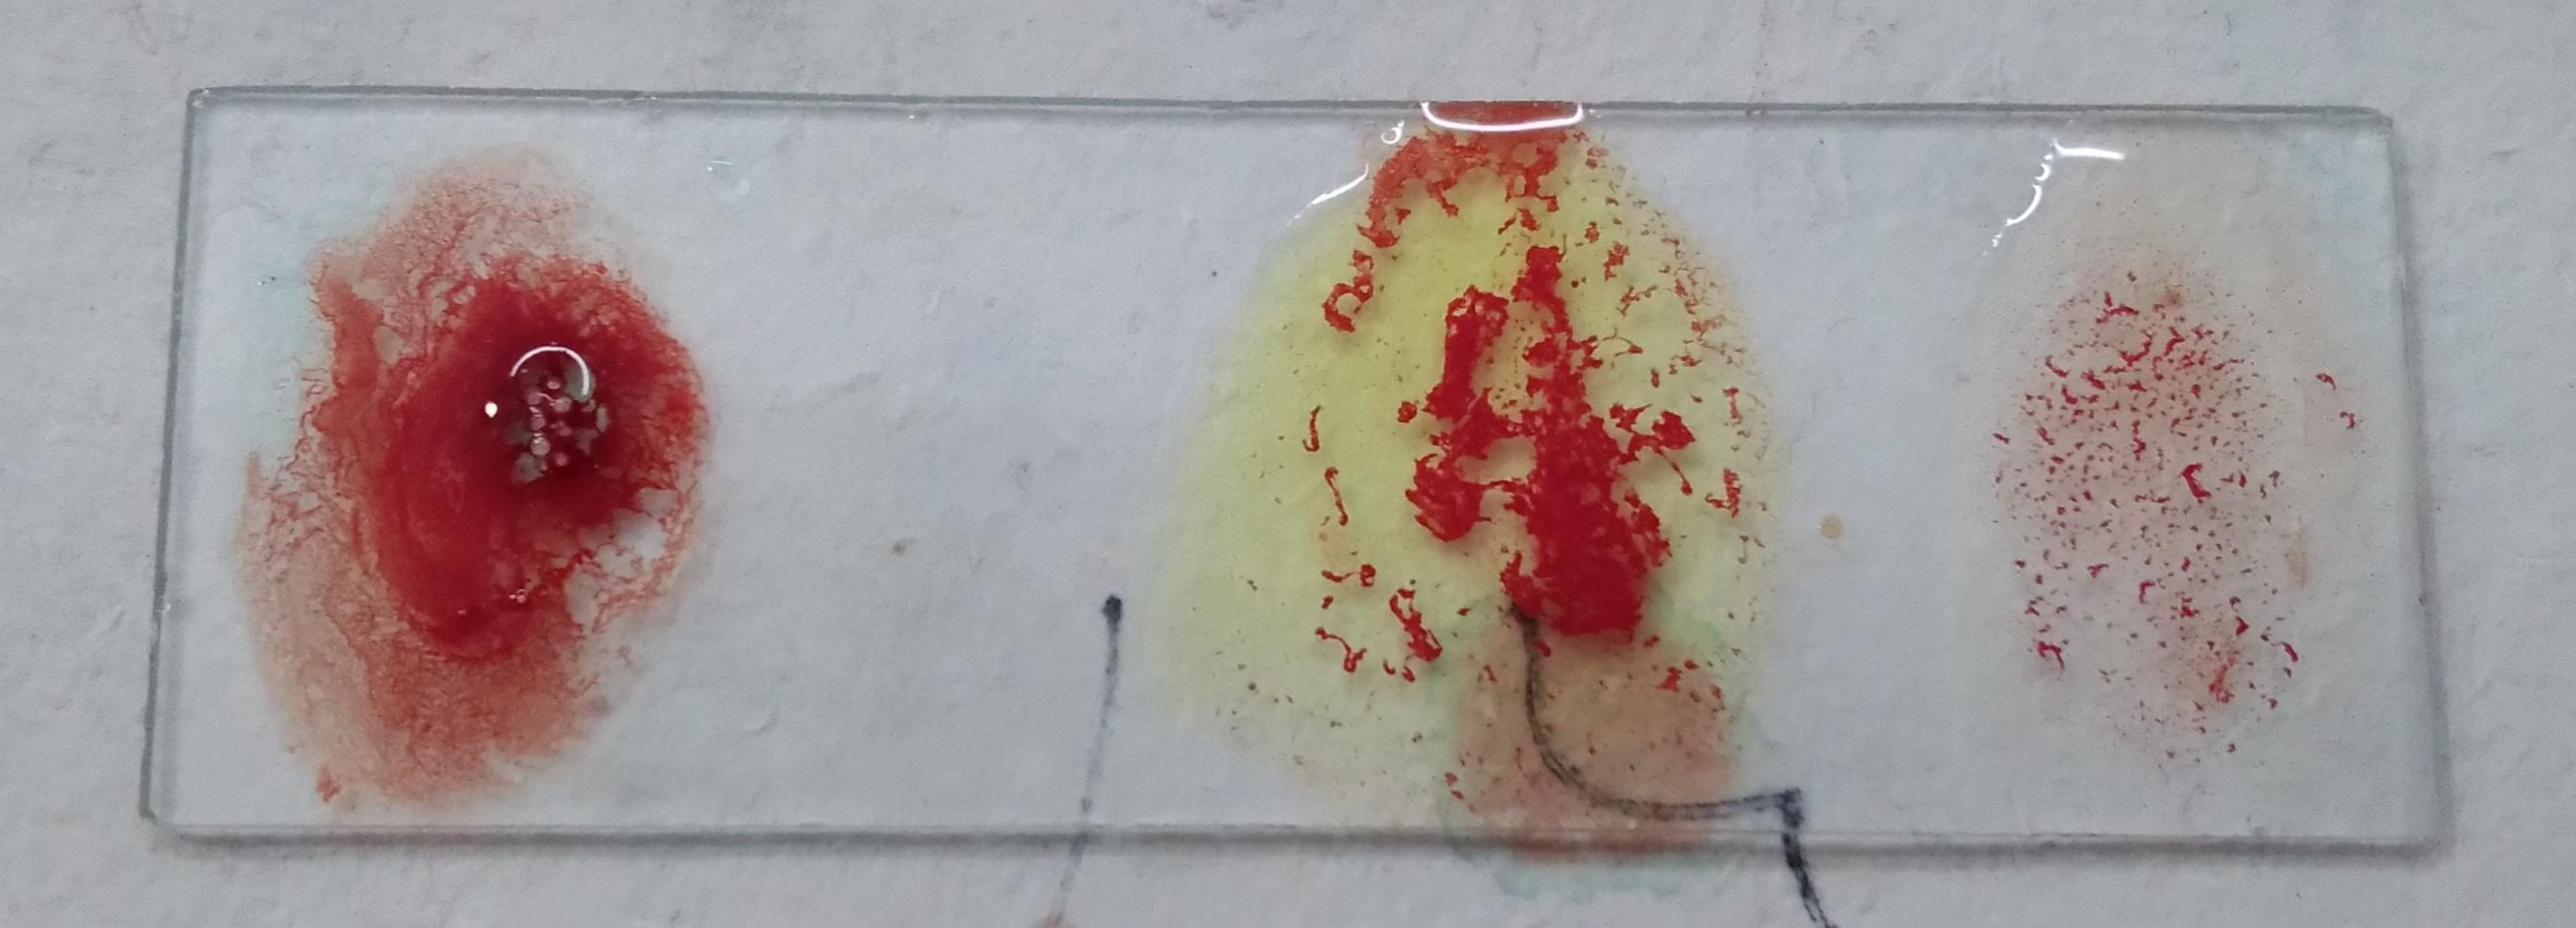A: (258, 156, 695, 790)
B: (1204, 103, 1799, 762)
D: (1929, 113, 2369, 749)
